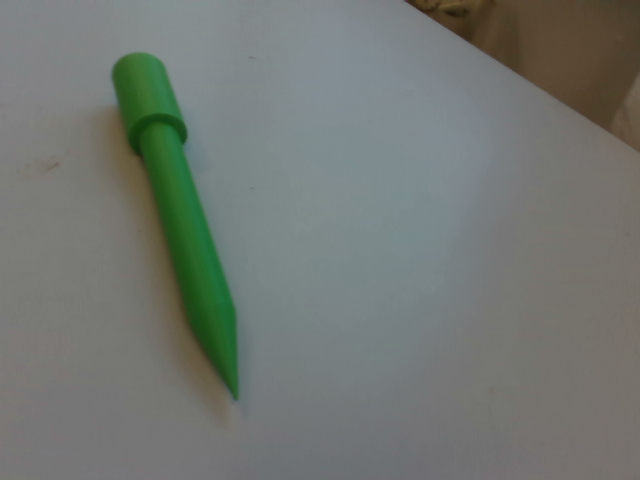Probe: (107, 43, 244, 412)
